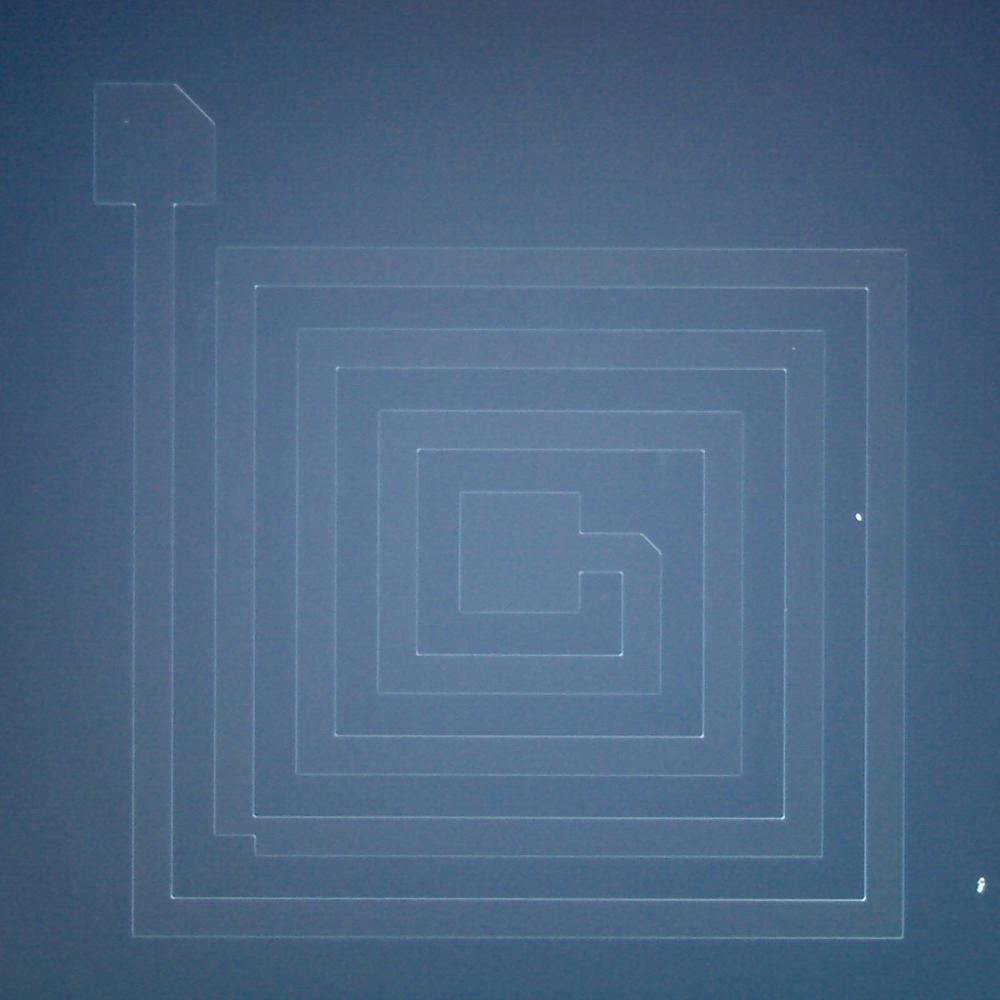dot: (974, 878, 988, 892), (855, 513, 863, 521), (124, 119, 129, 124), (792, 346, 796, 352)
